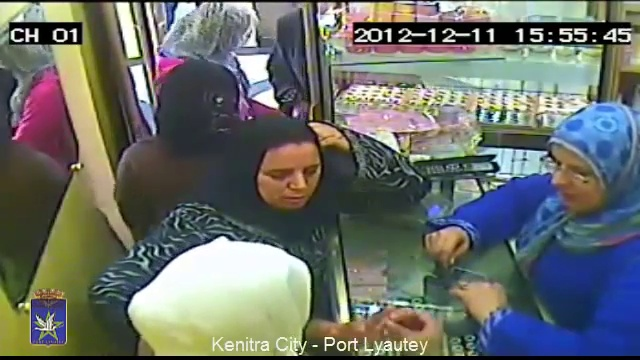face: (258, 153, 324, 210), (551, 149, 611, 209)
